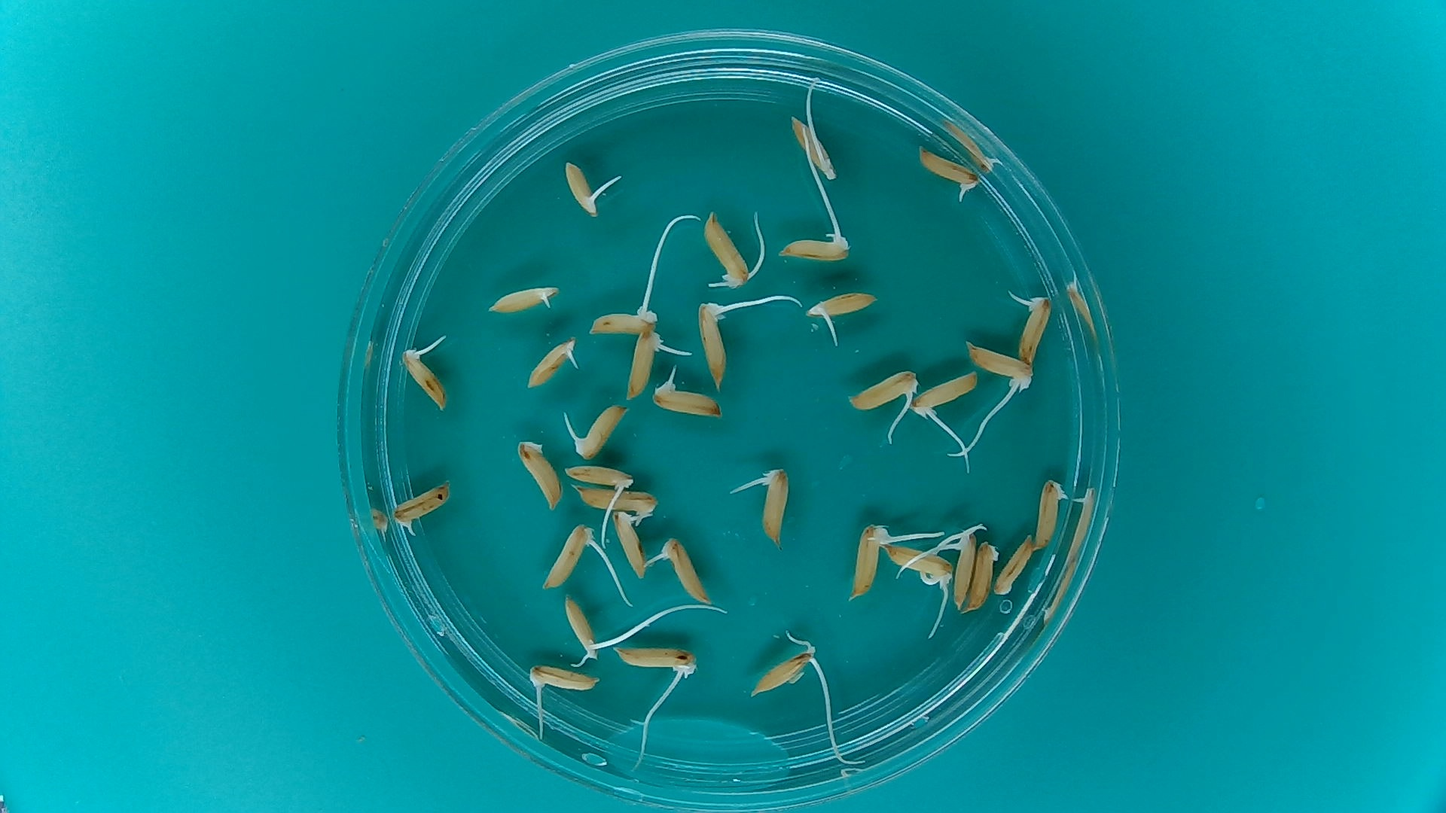no: (514, 435, 564, 511), (1033, 475, 1072, 550), (994, 531, 1033, 598), (966, 538, 1000, 613)
yes: (882, 542, 956, 603), (556, 399, 628, 461), (541, 519, 602, 592), (699, 208, 752, 289), (570, 483, 657, 530), (656, 533, 712, 606), (962, 340, 1036, 395), (914, 145, 983, 202), (749, 643, 822, 696), (694, 294, 733, 392), (648, 371, 726, 419), (389, 478, 453, 535), (788, 112, 840, 182), (611, 641, 699, 682), (849, 519, 893, 601), (844, 366, 920, 413), (1008, 288, 1054, 365), (774, 221, 858, 263), (911, 367, 983, 416), (480, 278, 567, 318), (523, 333, 582, 391), (623, 324, 667, 400), (399, 349, 447, 413), (583, 300, 664, 336), (524, 661, 601, 698), (610, 507, 649, 580), (561, 158, 608, 218), (563, 592, 603, 662), (759, 463, 794, 541), (562, 461, 637, 492), (949, 523, 977, 606), (804, 292, 877, 321)
